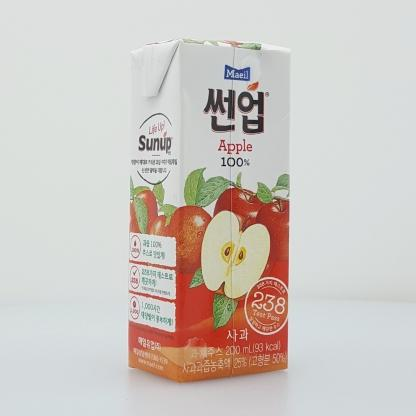-----------200ML: (128, 38, 291, 383)
